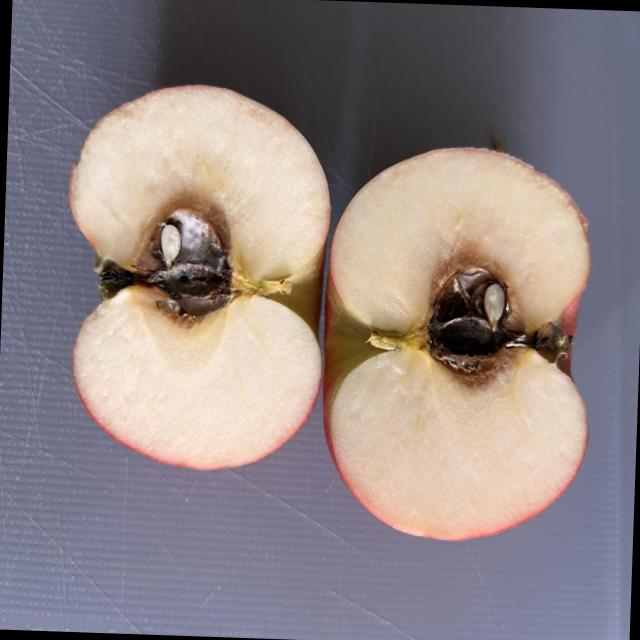apple_fruit: (21, 39, 340, 560), (317, 113, 612, 579)
